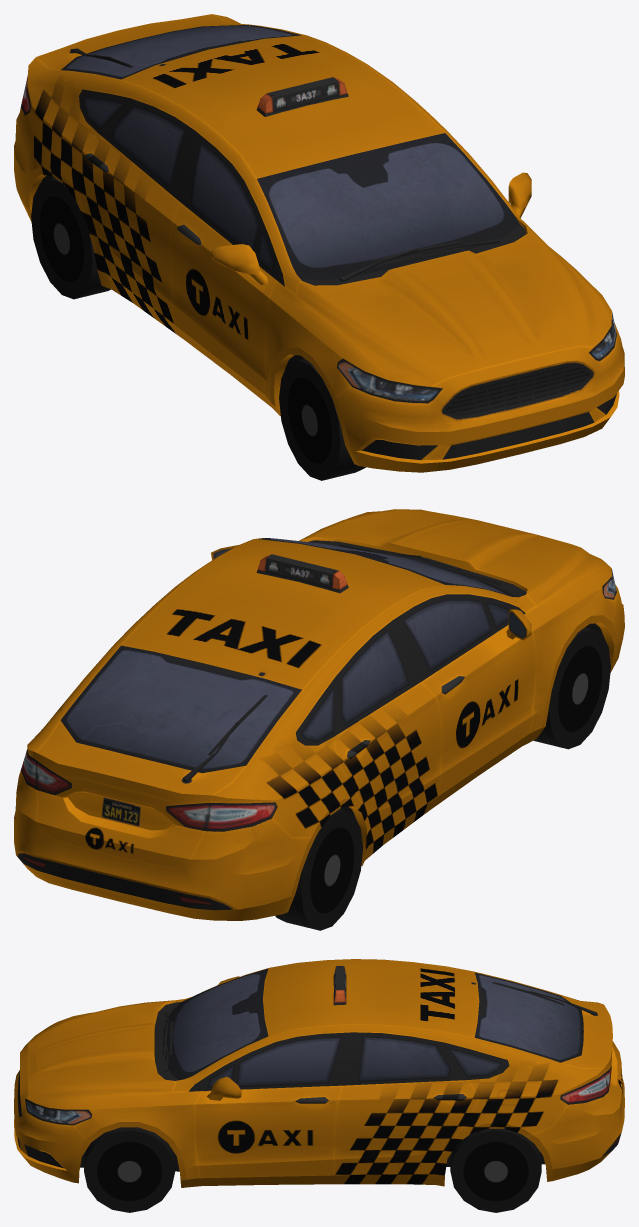
The model's file is glb-9.glb.
3 renders of one model, top to bottom at view 1: azimuth 30°, elevation 25°; view 2: azimuth 150°, elevation 25°; view 3: azimuth 270°, elevation 25°, orthographic. The views are drawn at different scales.
Visible parts, largest first — view 1: Object_4, Object_2, Object_3; view 2: Object_4, Object_2, Object_3; view 3: Object_4, Object_2, Object_3.
Part boxes in pixels (x1,y1,x2,y2): Object_4: (14, 14, 624, 472); Object_2: (31, 177, 365, 480); Object_3: (256, 77, 348, 116); Object_4: (14, 509, 624, 920); Object_2: (275, 627, 610, 930); Object_3: (256, 554, 348, 593); Object_4: (14, 959, 624, 1187); Object_2: (84, 1127, 541, 1212); Object_3: (333, 965, 346, 1005).
Size of the model in its own units: 85.68 by 65.17 by 194.
Materials: 3 (3 with a texture image).
